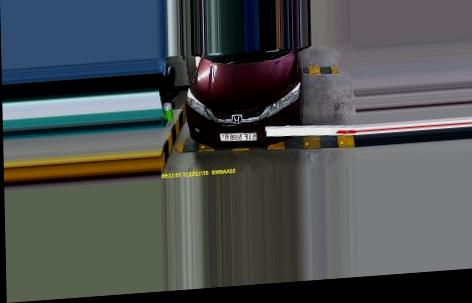License_Plate: (219, 127, 258, 144)
